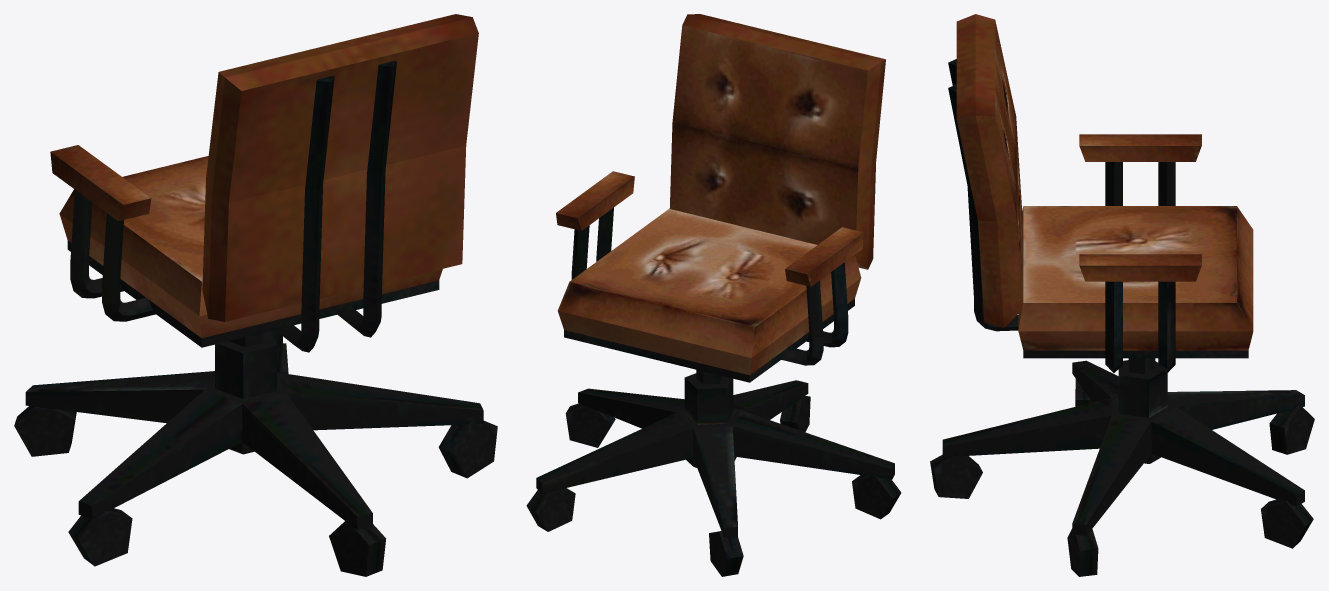
Rendered from office_chair_fancy.obj.
3 views of the same model, side by side, from view 1: azimuth 30°, elevation 25°; view 2: azimuth 150°, elevation 25°; view 3: azimuth 270°, elevation 25° (orthographic). The views are drawn at different scales.
Parts seen in each view (by area): view 1: office_chair_fancy; view 2: office_chair_fancy; view 3: office_chair_fancy.
Boxes of the visible parts, x1,y1,x2,y2 form: office_chair_fancy: (14,14,497,576); office_chair_fancy: (526,14,901,576); office_chair_fancy: (930,14,1314,576).
Bounding box in the file's own units: 0.9881 × 1.16 × 0.9325.
